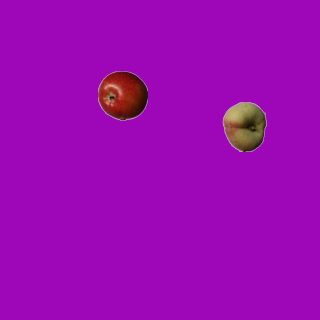Apple Braeburn: (97, 70, 147, 120)
Peach Flat: (219, 101, 269, 151)
